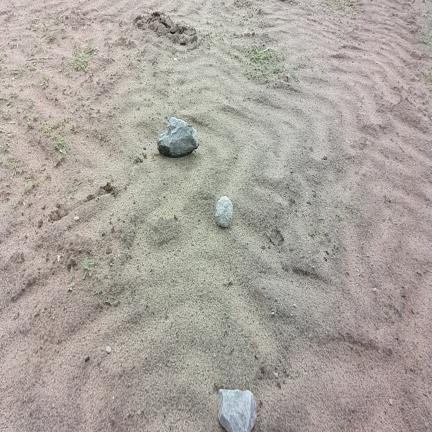Rock: (158, 117, 198, 157), (218, 389, 256, 431), (216, 196, 232, 227)
